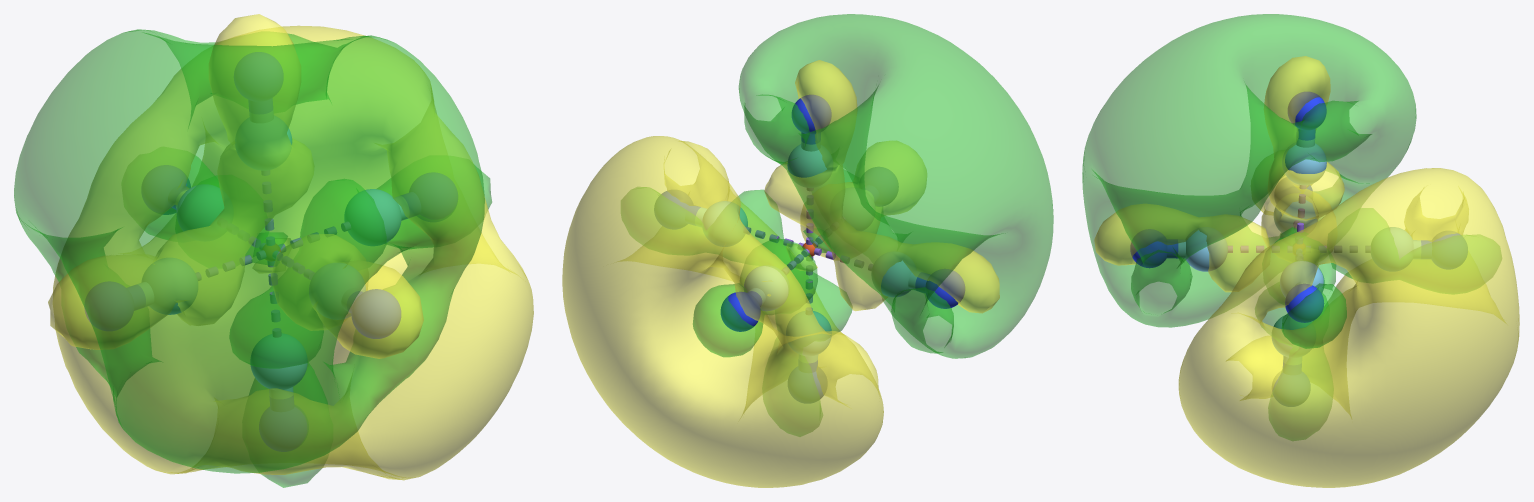
The picture shows the model from 3 angles, left to right: view 1: azimuth 30°, elevation 25°; view 2: azimuth 150°, elevation 25°; view 3: azimuth 270°, elevation 25°; orthographic projection. The views are drawn at different scales.
Parts seen in each view (by area): view 1: surface, surface.001, C atoms, O atom, pbonds, O bonds, C bonds; view 2: surface, surface.001, C atoms, O atom, pbonds, O bonds, C bonds; view 3: surface, surface.001, C atoms, O atom, pbonds, O bonds, C bonds.
Part boxes in pixels (x1,y1,x2,y2): surface: [48, 14, 533, 480]; surface.001: [14, 29, 491, 487]; C atoms: [142, 116, 401, 389]; O atom: [84, 52, 457, 451]; pbonds: [196, 170, 350, 337]; O bonds: [127, 99, 420, 411]; C bonds: [138, 111, 408, 411]; surface: [562, 60, 999, 487]; surface.001: [621, 14, 1053, 436]; C atoms: [702, 144, 916, 355]; O atom: [654, 95, 964, 402]; pbonds: [744, 188, 872, 314]; O bonds: [685, 132, 929, 372]; C bonds: [695, 141, 919, 362]; surface: [1094, 56, 1519, 487]; surface.001: [1082, 14, 1501, 440]; C atoms: [1185, 143, 1413, 357]; O atom: [1130, 92, 1467, 406]; pbonds: [1228, 185, 1370, 260]; O bonds: [1167, 128, 1431, 374]; C bonds: [1178, 138, 1420, 364].
Bounding box in the file's own units: 9.17 × 9.12 × 9.16.
